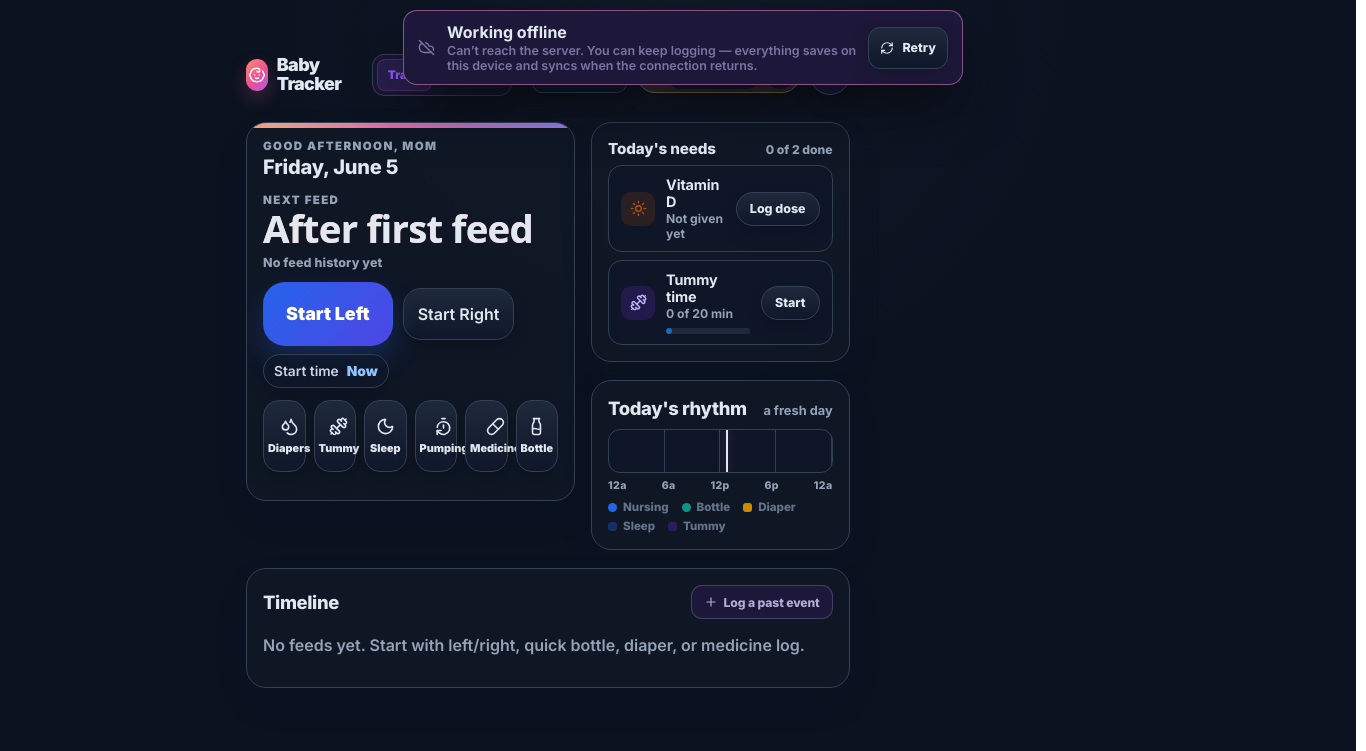
it: App interactions › hides the live split until an active feed has multiple tracked inputs
Click the button with aria-label "Adjust start time". click: click(326, 371)
box: [263, 354, 389, 388]
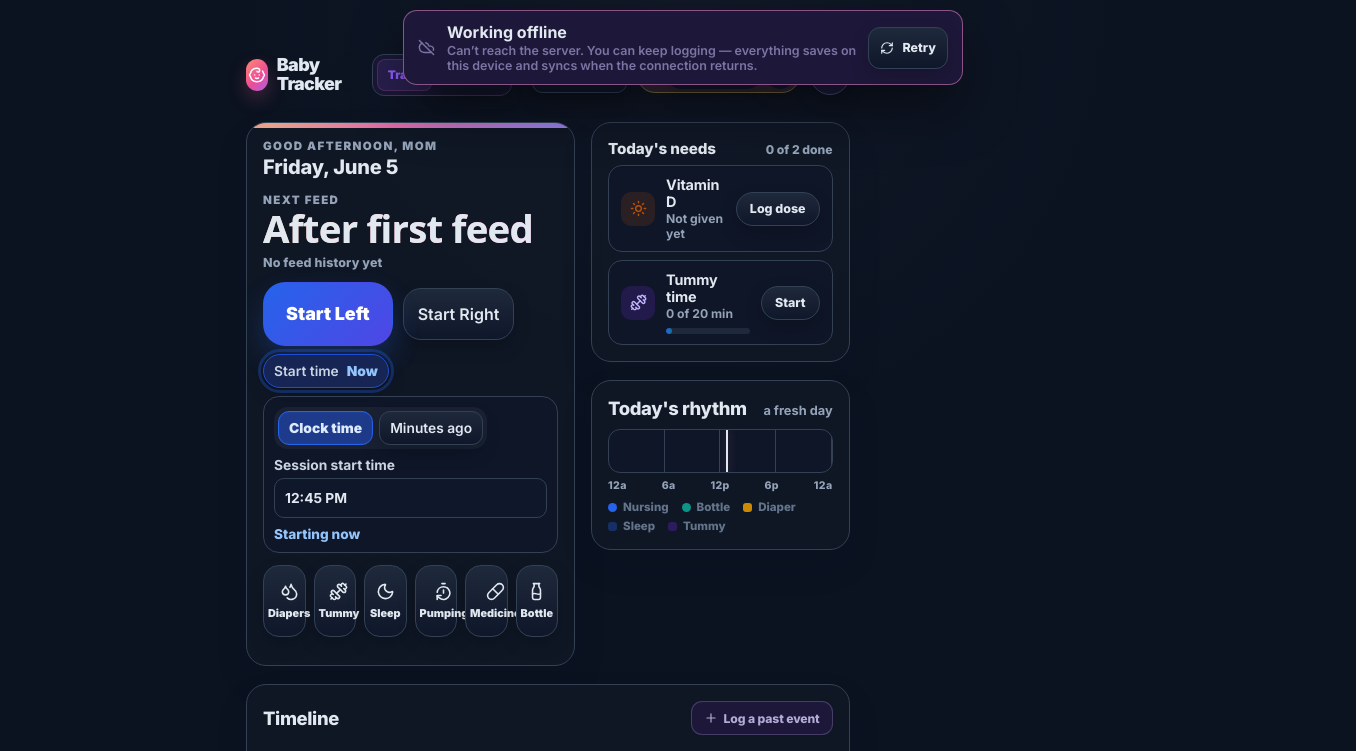
Replace the text in the field labelled "Session start time" with "12:40pm". click: (410, 498)
box: [274, 478, 547, 518]
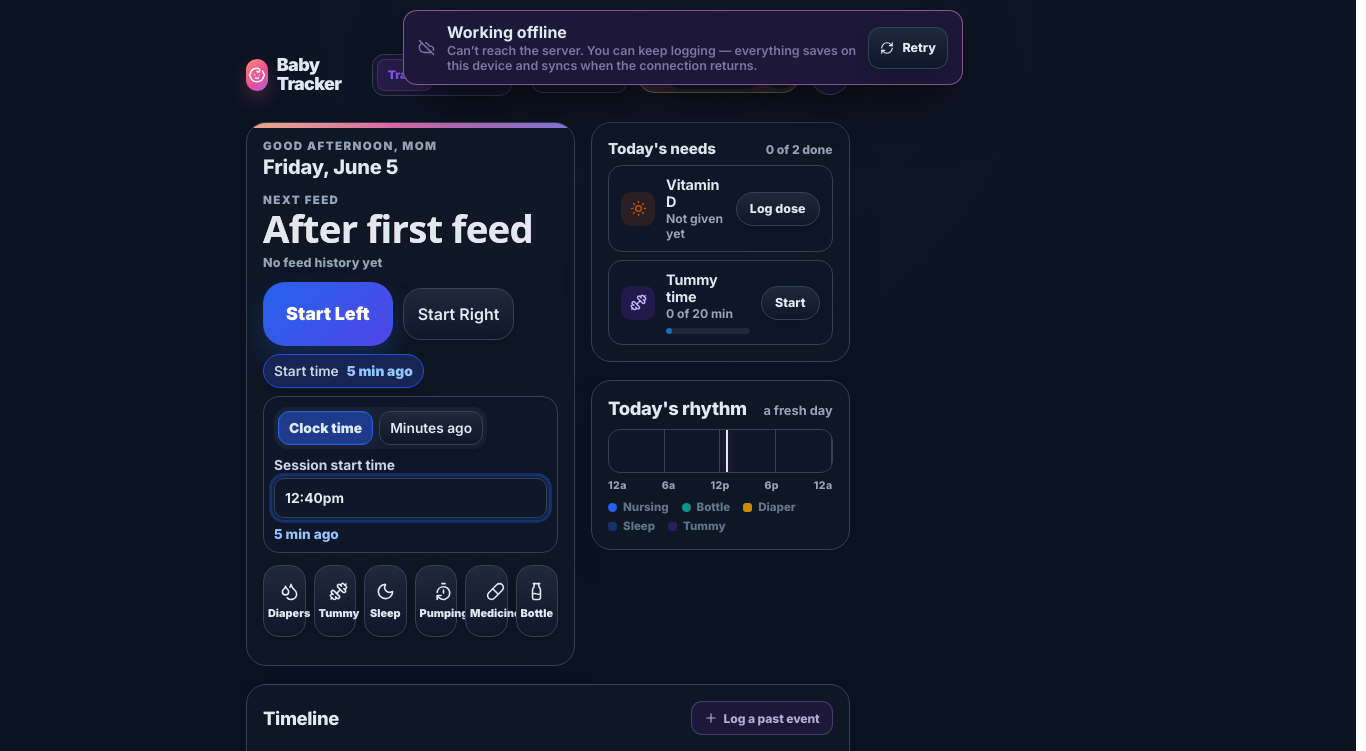
Click the button with aria-label "Start suggested side: Left". click: click(328, 314)
box: [263, 282, 393, 346]
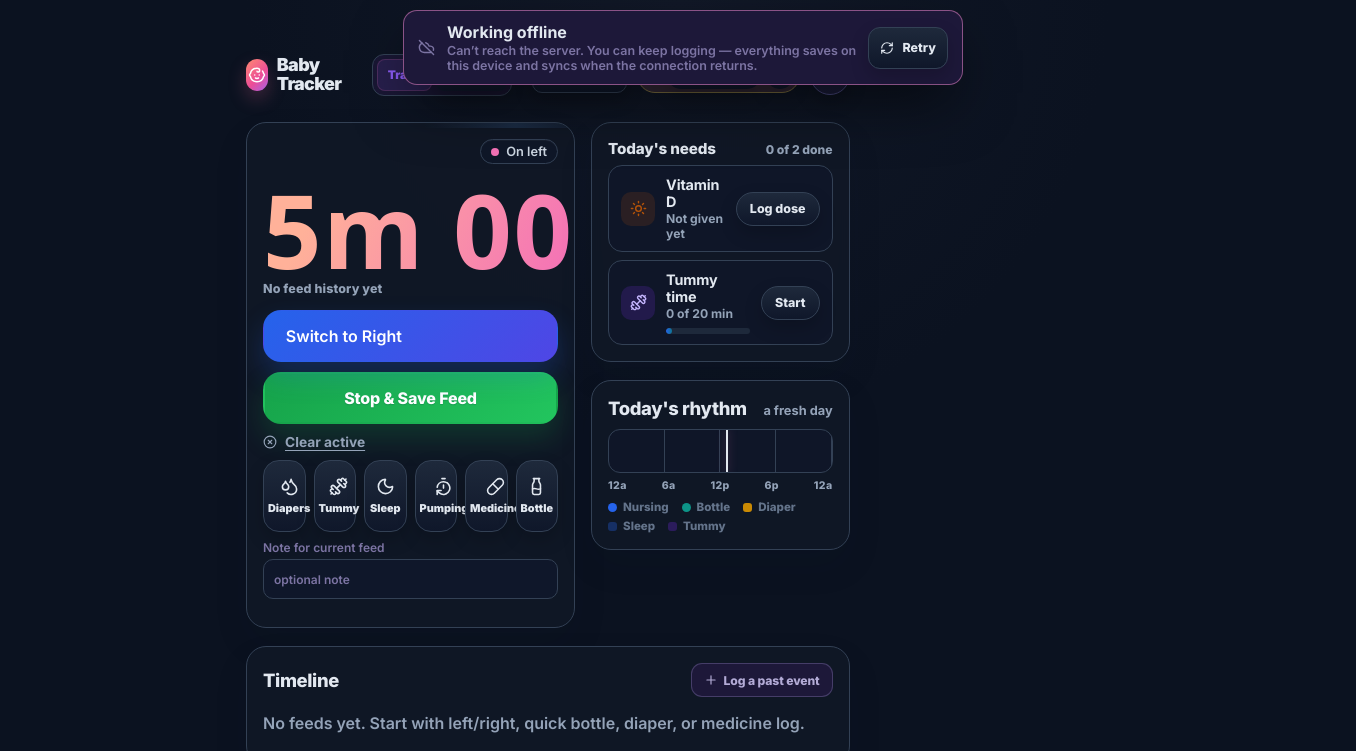
Expected: the field labelled "Live split" is not shown
Click the button "Bottle". click: click(537, 496)
box: [516, 460, 558, 532]
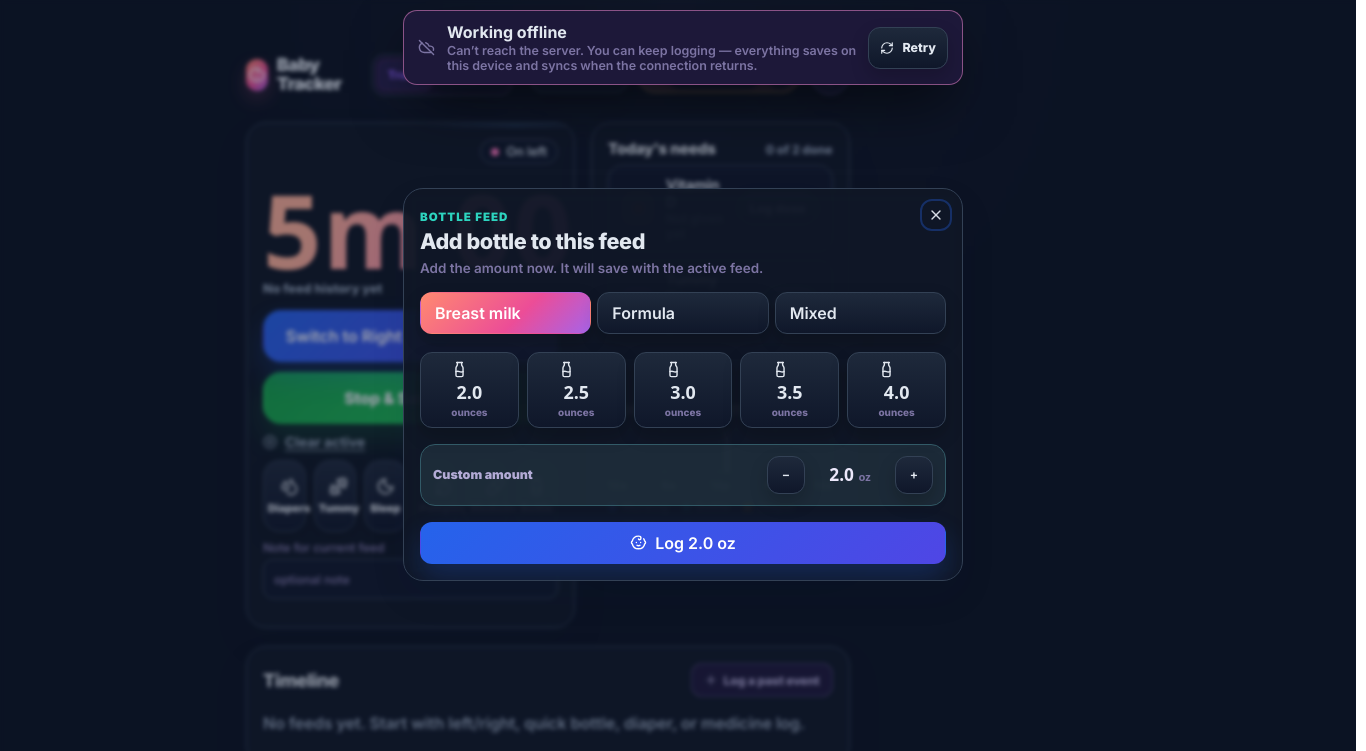
Click the button "2.0 ounces". click: click(469, 390)
box: [420, 352, 519, 428]
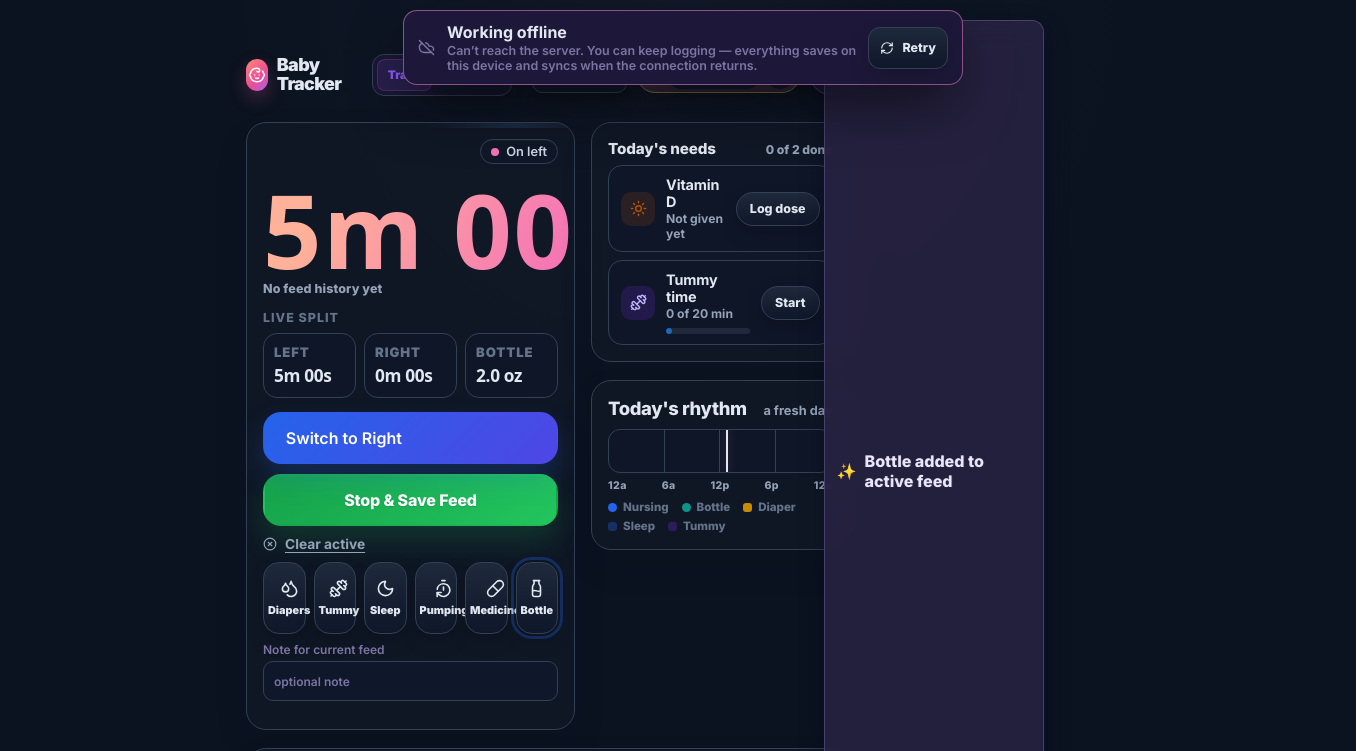
Expected: the element labelled "Live split Left 5m 00s Right 0m 00s Bottle 2.0 oz" is shown, [263, 310, 558, 398]
